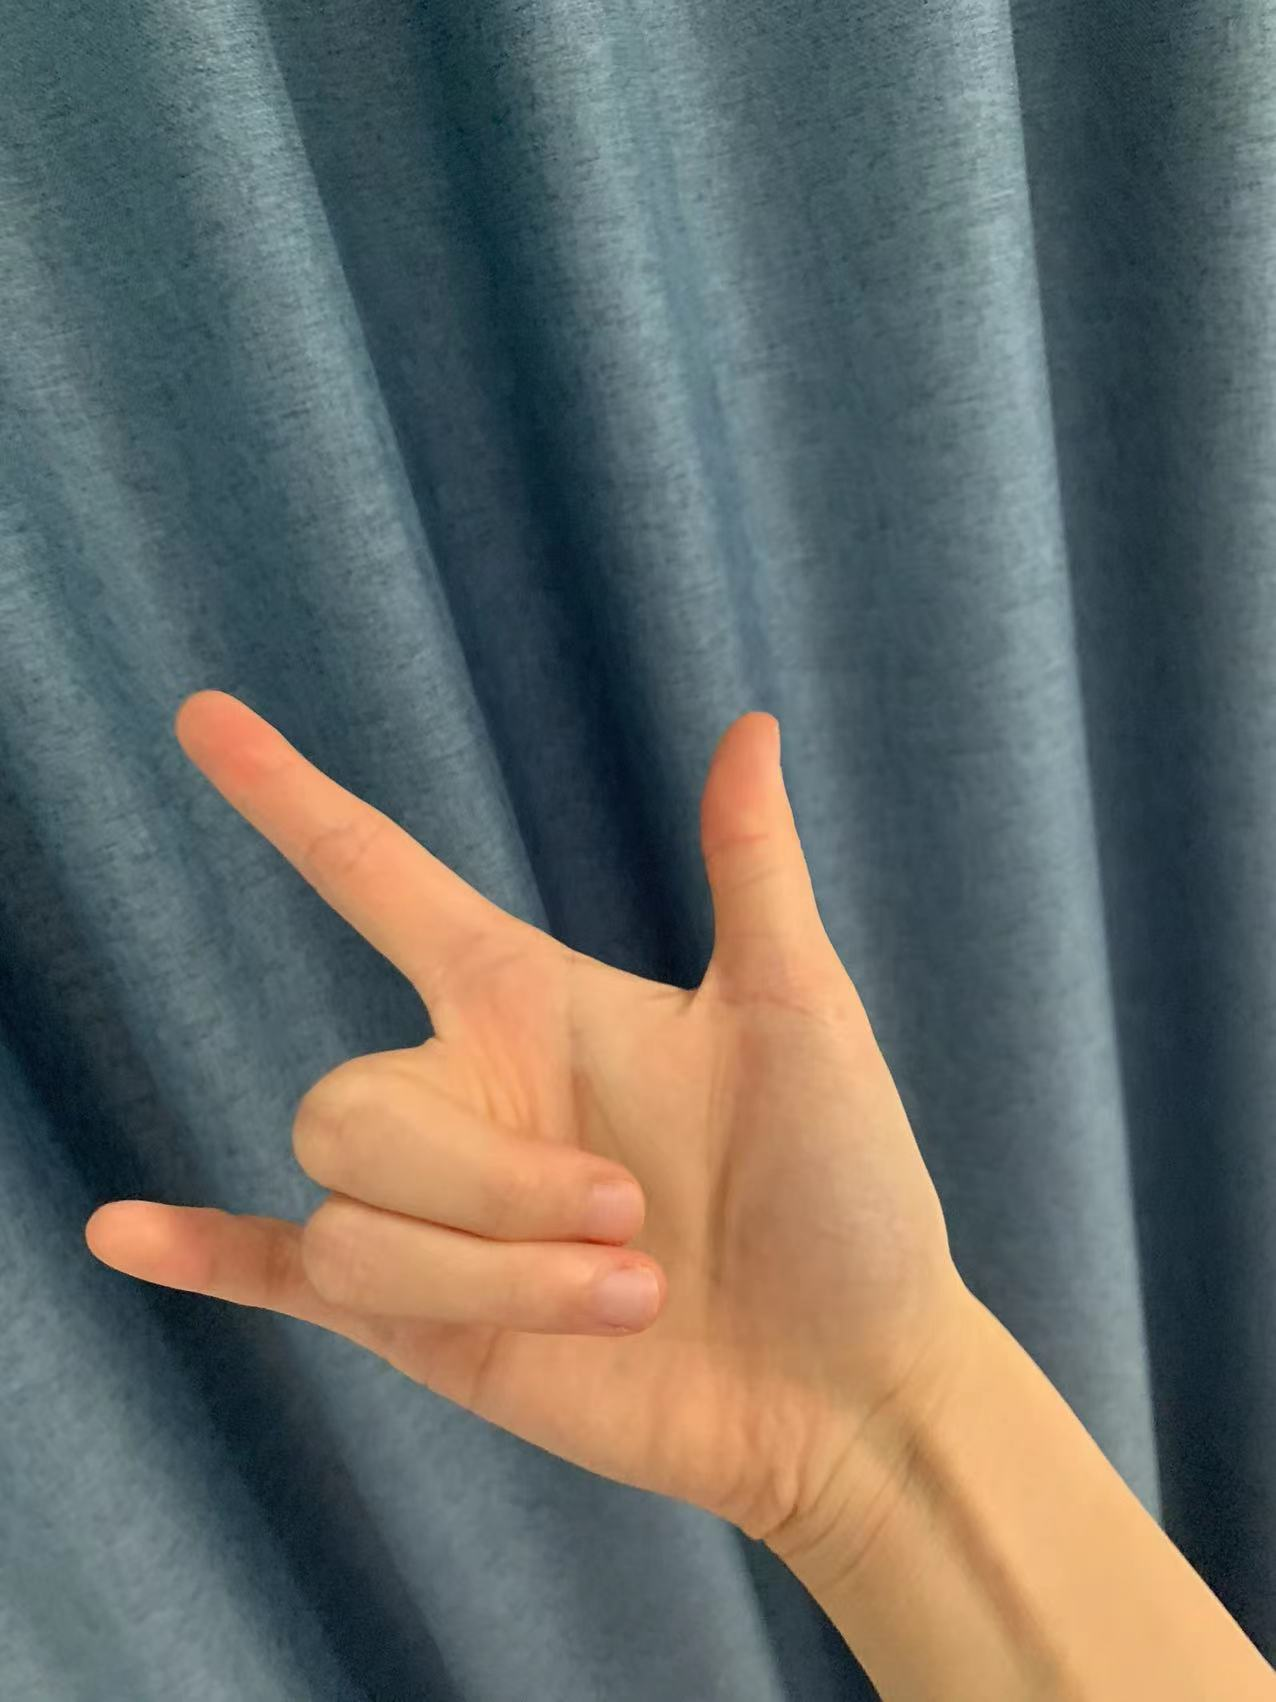back: (63, 673, 952, 1506)
